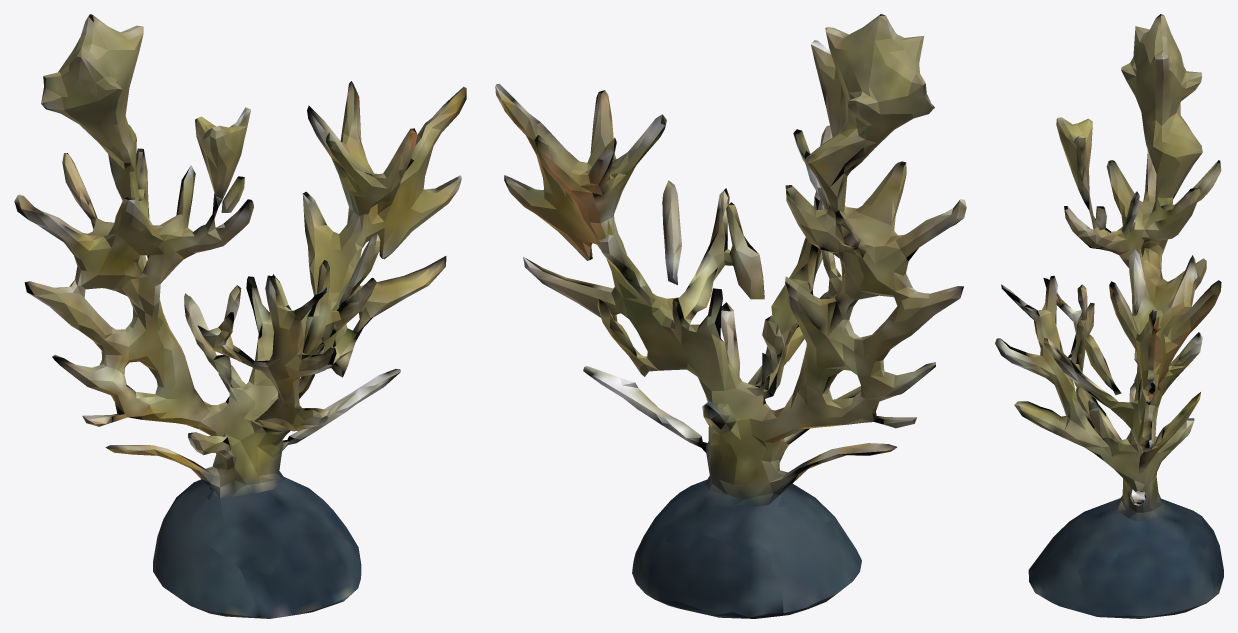
The model's file is Plant11.glb.
3 views of the same model, side by side, from view 1: azimuth 30°, elevation 25°; view 2: azimuth 150°, elevation 25°; view 3: azimuth 270°, elevation 25° (orthographic). The views are drawn at different scales.
Parts seen in each view (by area): view 1: model.005_LOD0; view 2: model.005_LOD0; view 3: model.005_LOD0.
Part boxes in pixels (x1,y1,x2,y2): model.005_LOD0: [14, 14, 466, 618]; model.005_LOD0: [495, 14, 966, 618]; model.005_LOD0: [995, 14, 1223, 618].
Size of what is drawn, in the model's own units: 0.2765 by 0.3422 by 0.1403.
1 material, 1 textured.
